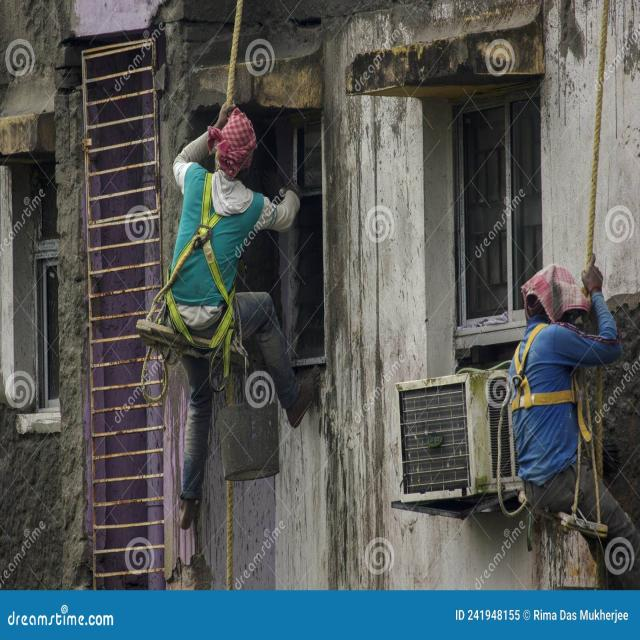person: (172, 116, 316, 526), (514, 262, 639, 584)
